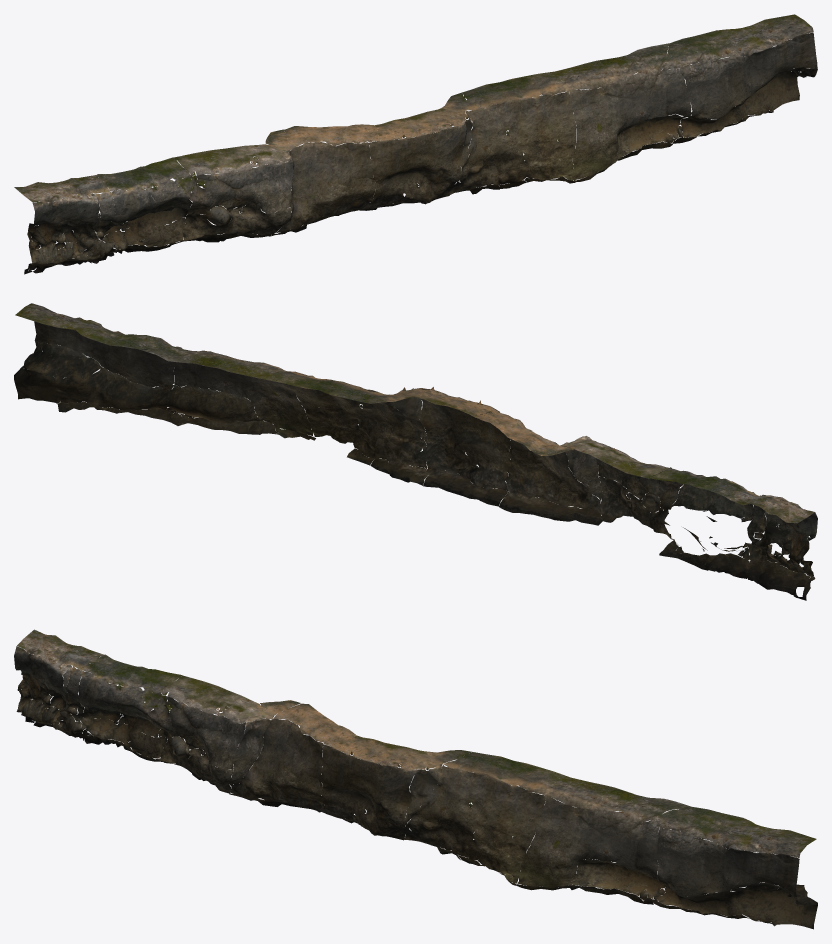
The model's file is coastal-cliff.glb.
3 renders of one model, top to bottom at view 1: azimuth 30°, elevation 25°; view 2: azimuth 150°, elevation 25°; view 3: azimuth 330°, elevation 25°, orthographic. The views are drawn at different scales.
Parts seen in each view (by area): view 1: CoastalCliff; view 2: CoastalCliff; view 3: CoastalCliff.
Part boxes in pixels (bbox=[...]): CoastalCliff: bbox=[14, 14, 817, 274]; CoastalCliff: bbox=[14, 303, 817, 600]; CoastalCliff: bbox=[14, 629, 817, 929].
Size of the model in its own units: 91.89 by 10.27 by 10.96.
1 material, 1 textured.
